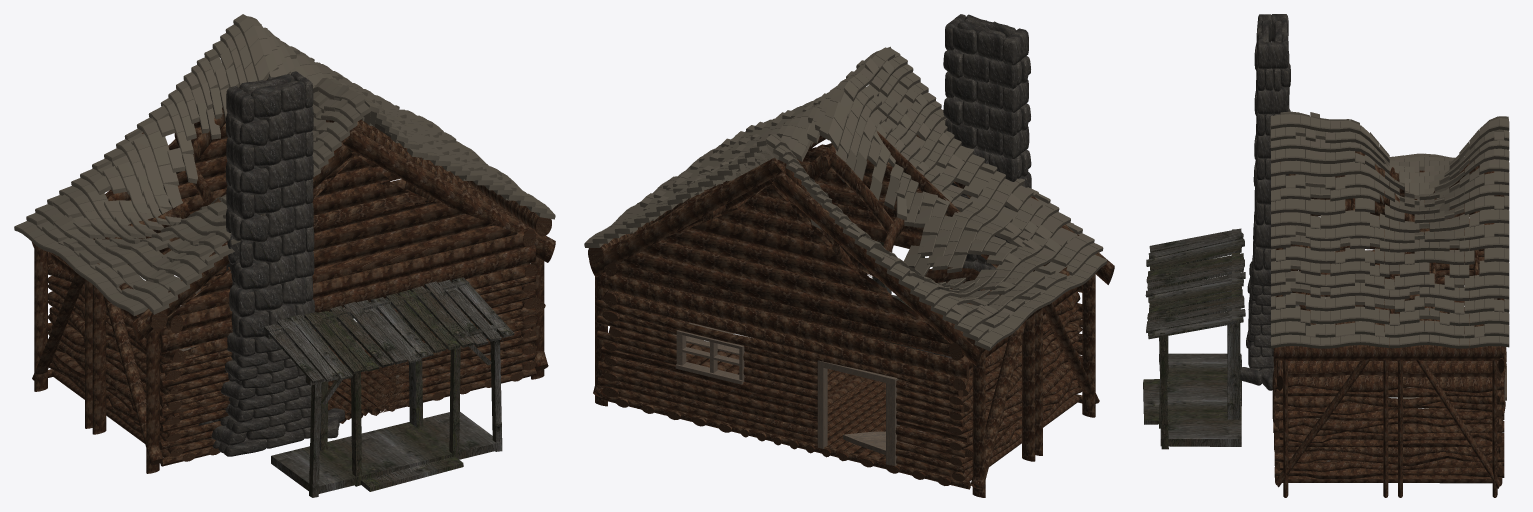
Rendered from cabin_facade.glb.
3 renders of one model, left to right at view 1: azimuth 30°, elevation 25°; view 2: azimuth 150°, elevation 25°; view 3: azimuth 270°, elevation 25°, orthographic. The views are drawn at different scales.
Parts seen in each view (by area): view 1: polySurface948_Log_0_c, polySurface948_Shingle_0_c, polySurface948_rock1_0_c, CabinPorchAwningV37; view 2: polySurface948_Log_0_c, polySurface948_Shingle_0_c, polySurface948_rock1_0_c, polySurface948_wood_0_c, polySurface948_wood_planks_0_c, polySurface948_wood_funashing_0_c; view 3: polySurface948_Shingle_0_c, polySurface948_Log_0_c, CabinPorchAwningV37, polySurface948_rock1_0_c.
Part boxes in pixels (x1=…): polySurface948_Log_0_c: x1=32, y1=78, x2=555, y2=473; polySurface948_Shingle_0_c: x1=14, y1=14, x2=555, y2=316; polySurface948_rock1_0_c: x1=198, y1=71, x2=344, y2=456; CabinPorchAwningV37: x1=264, y1=277, x2=514, y2=497; polySurface948_Log_0_c: x1=588, y1=83, x2=1114, y2=497; polySurface948_Shingle_0_c: x1=584, y1=46, x2=1107, y2=350; polySurface948_rock1_0_c: x1=916, y1=14, x2=1031, y2=356; polySurface948_wood_0_c: x1=817, y1=360, x2=899, y2=465; polySurface948_wood_planks_0_c: x1=675, y1=330, x2=849, y2=384; polySurface948_wood_funashing_0_c: x1=670, y1=313, x2=953, y2=457; polySurface948_Shingle_0_c: x1=1270, y1=111, x2=1509, y2=348; polySurface948_Log_0_c: x1=1272, y1=149, x2=1506, y2=497; CabinPorchAwningV37: x1=1143, y1=228, x2=1245, y2=449; polySurface948_rock1_0_c: x1=1240, y1=14, x2=1299, y2=390.
Size of the model in its own units: 8.78 by 7.28 by 7.23.
Materials: 9 (7 with a texture image).
